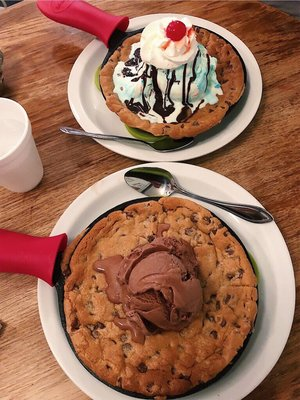salad: (123, 165, 273, 226)
